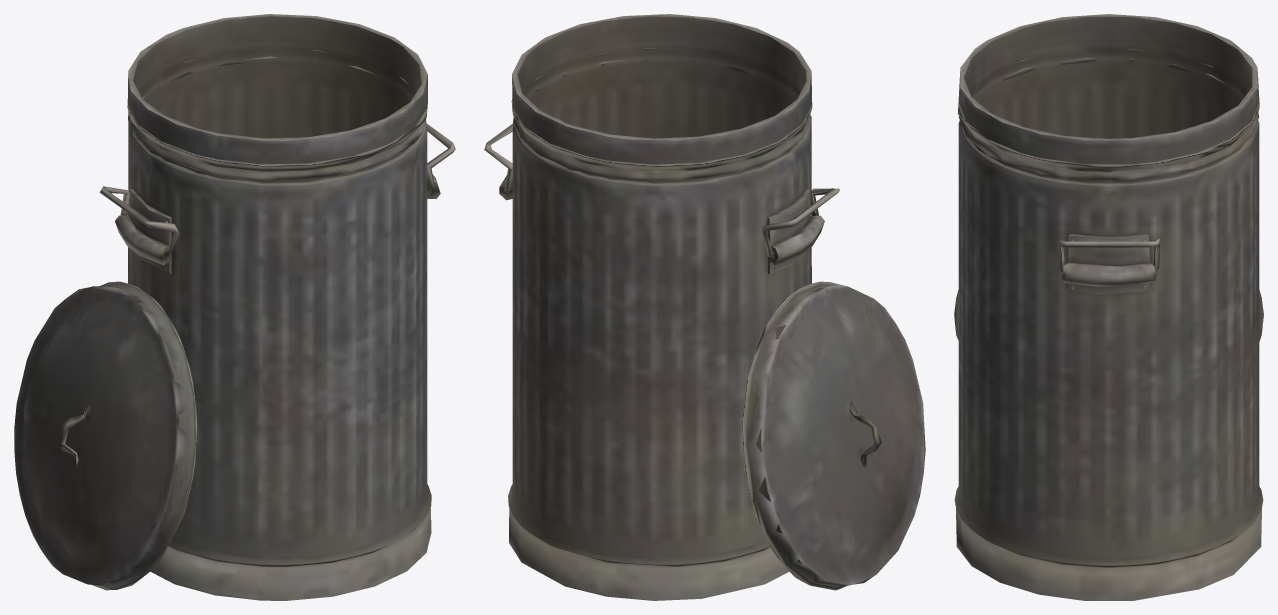
File: poubelle_metal_lod1.glb
3 renders of one model, left to right at view 1: azimuth 30°, elevation 25°; view 2: azimuth 150°, elevation 25°; view 3: azimuth 270°, elevation 25°, orthographic.
Parts seen in each view (by area): view 1: metal_trash_can_handle_left; view 2: metal_trash_can_handle_left; view 3: metal_trash_can_handle_left.
Part boxes in pixels (x1,y1,x2,y2): metal_trash_can_handle_left: [14, 14, 455, 600]; metal_trash_can_handle_left: [484, 14, 925, 600]; metal_trash_can_handle_left: [954, 14, 1263, 600].
Size of the model in its own units: 0.7771 by 0.9062 by 0.5543.
Materials: 1 (1 with a texture image).
